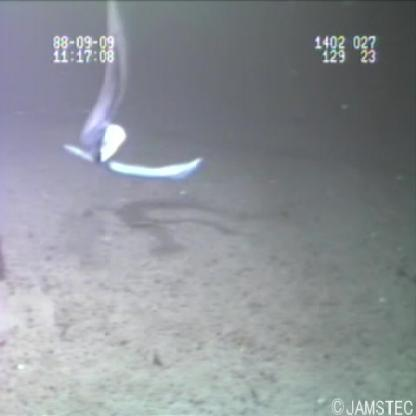Bio: (76, 1, 137, 175), (56, 138, 210, 192)
